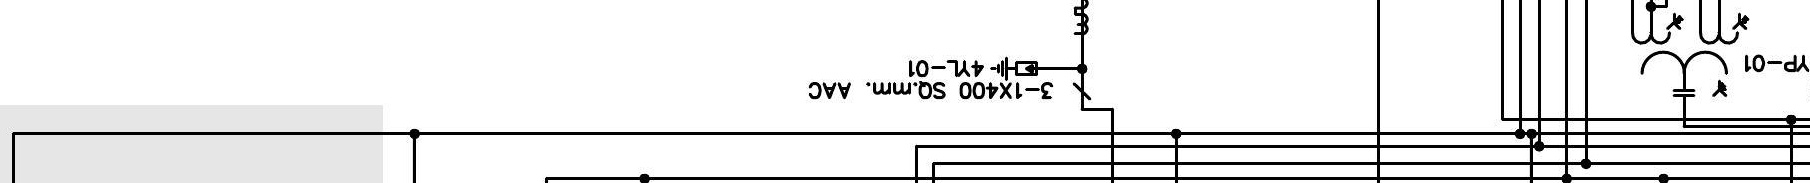115_cvt_3p: (1630, 12, 1750, 98)
115_la: (989, 55, 1038, 82)
